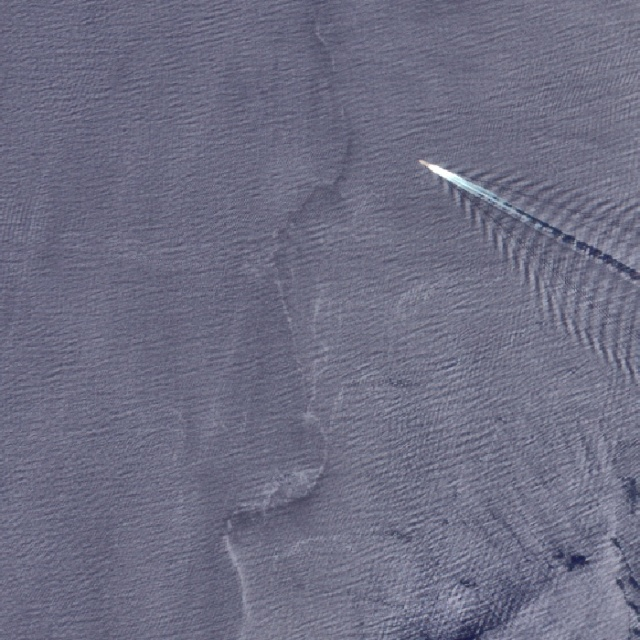wake: (385, 104, 614, 302)
